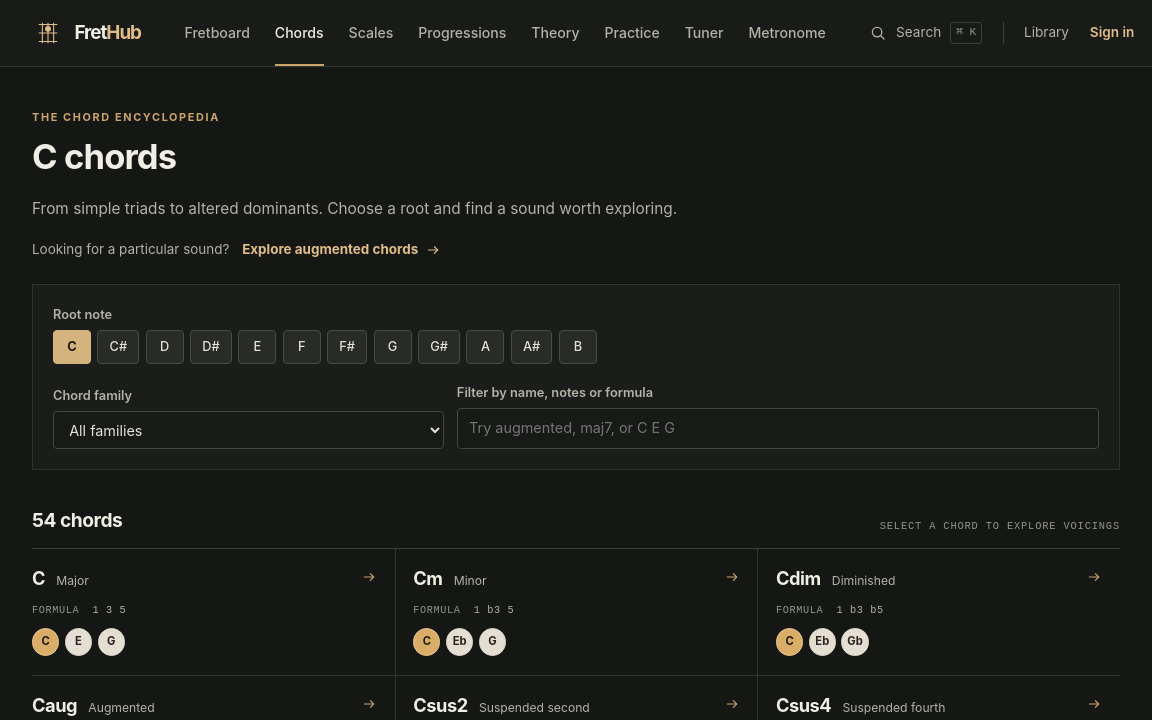
Test case: application routing and rendering › renders the chord encyclopedia browser and filters by root
The image size is (1152, 720).
Check: the heading "C chords" is shown, box [32, 136, 176, 177]
Click the button "G".
click(393, 347)  # box [374, 330, 412, 364]
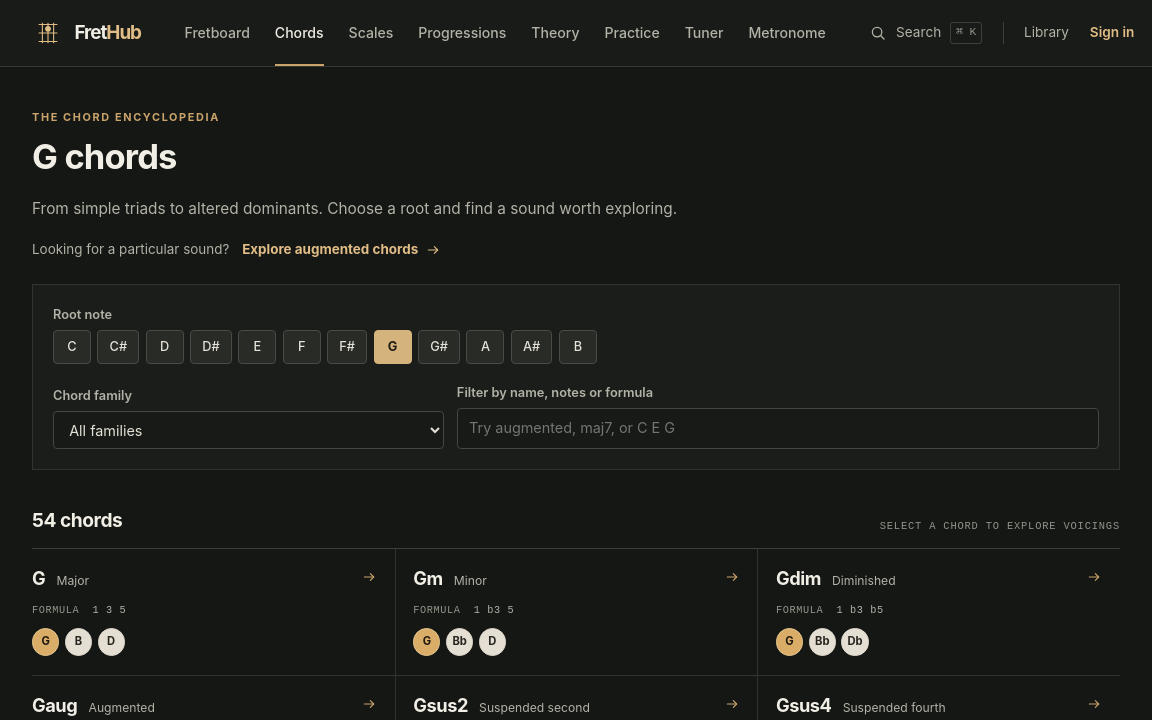
Check: the heading "G chords" is shown, box [32, 136, 177, 177]
